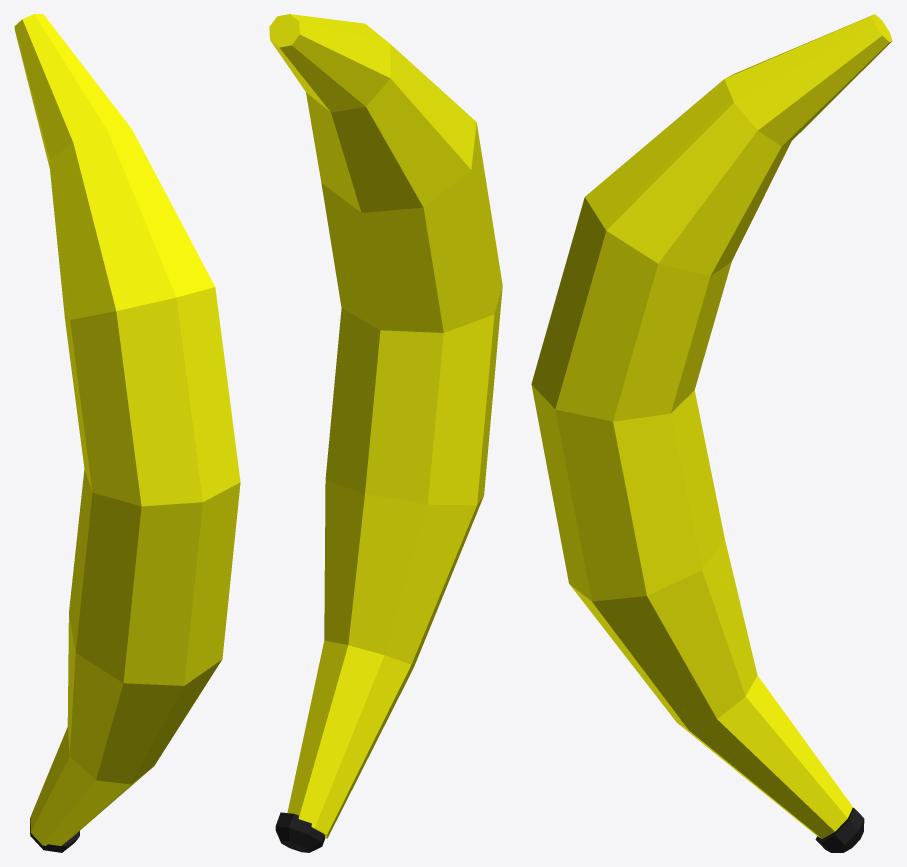
Rendered from Banana.fbx.
3 views of the same model, side by side, from view 1: azimuth 30°, elevation 25°; view 2: azimuth 150°, elevation 25°; view 3: azimuth 270°, elevation 25° (orthographic). The views are drawn at different scales.
Parts seen in each view (by area): view 1: Banana; view 2: Banana; view 3: Banana.
Boxes of the visible parts, <box> form: Banana: <box>14,14,240,852</box>; Banana: <box>269,14,502,852</box>; Banana: <box>531,14,892,852</box>.
Bounding box in the file's own units: 4.17 × 23.45 × 9.21.
